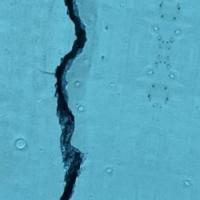crack: (44, 1, 112, 199)
